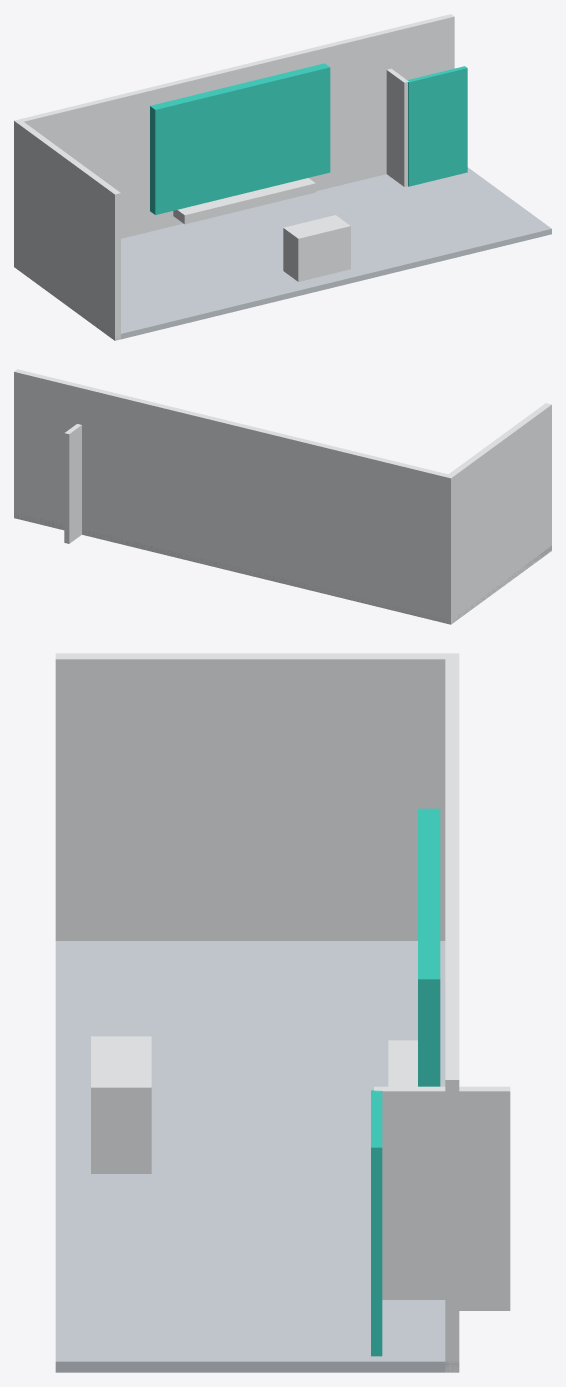
3 renders of one model, top to bottom at view 1: azimuth 30°, elevation 25°; view 2: azimuth 150°, elevation 25°; view 3: azimuth 270°, elevation 25°, orthographic. The views are drawn at different scales.
Parts seen in each view (by area): view 1: Exhibition Booth Concept; view 2: Exhibition Booth Concept; view 3: Exhibition Booth Concept.
Part boxes in pixels (left/top/right/bottom): Exhibition Booth Concept: left=14, top=14, right=551, bottom=340; Exhibition Booth Concept: left=14, top=369, right=551, bottom=624; Exhibition Booth Concept: left=55, top=653, right=510, bottom=1372.
Bounding box in the file's own units: 10 × 3.2 × 4.51.
